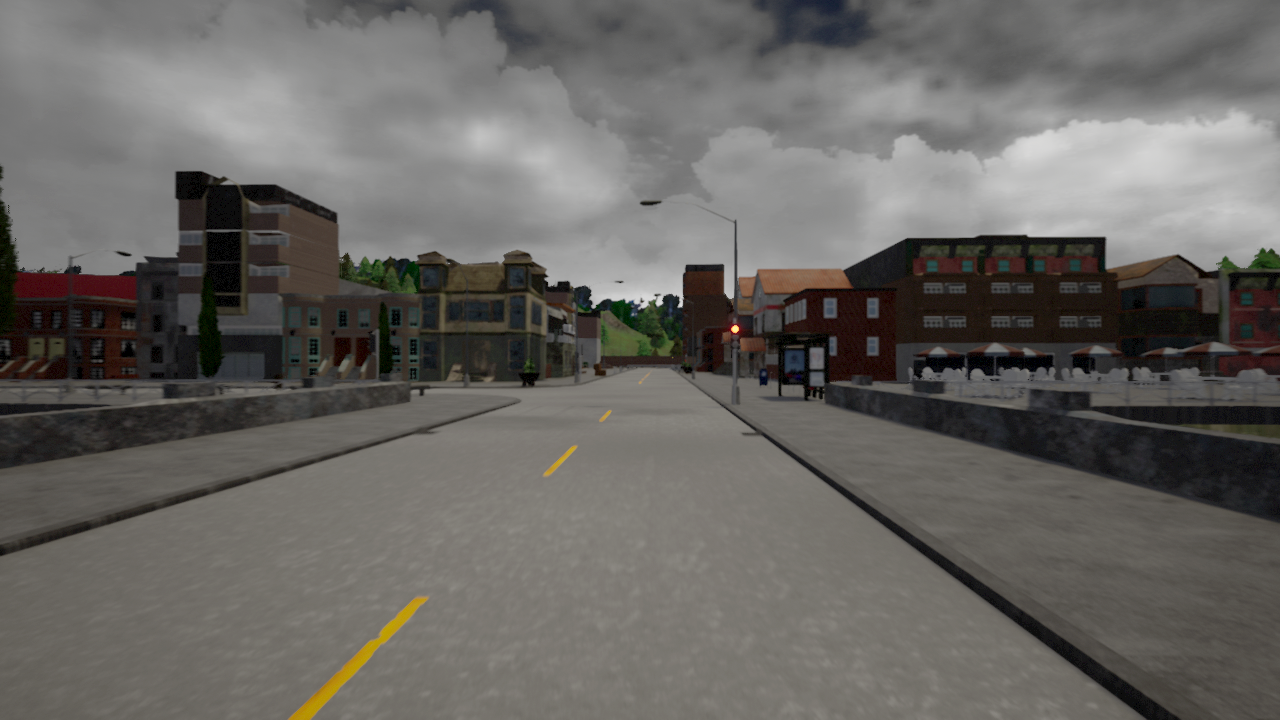red: (729, 323, 741, 350)
